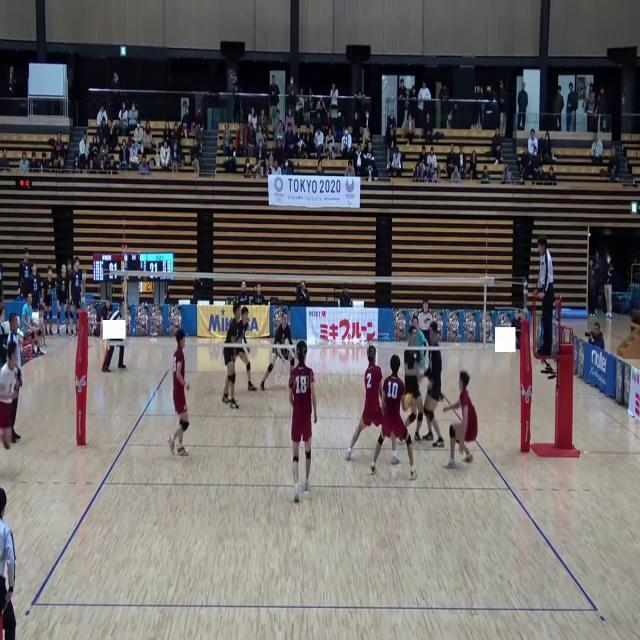volleyball: (406, 394, 414, 408)
